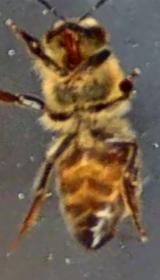varroa_mite: (100, 143, 128, 162)
